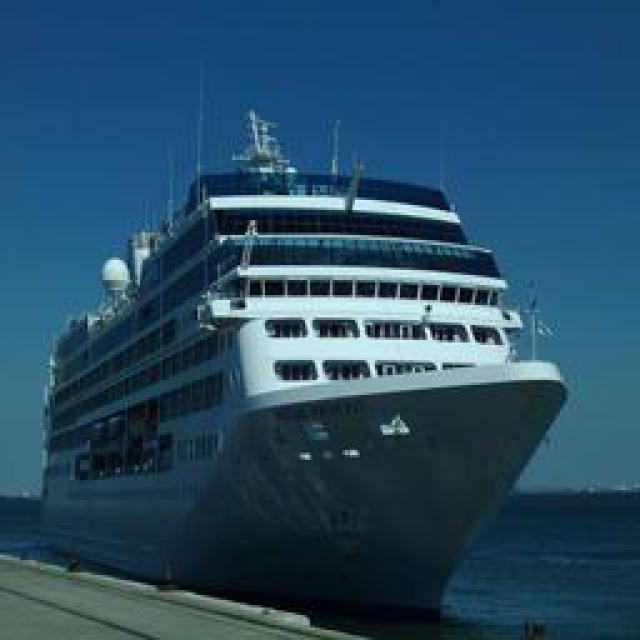Ship: (27, 141, 570, 604)
